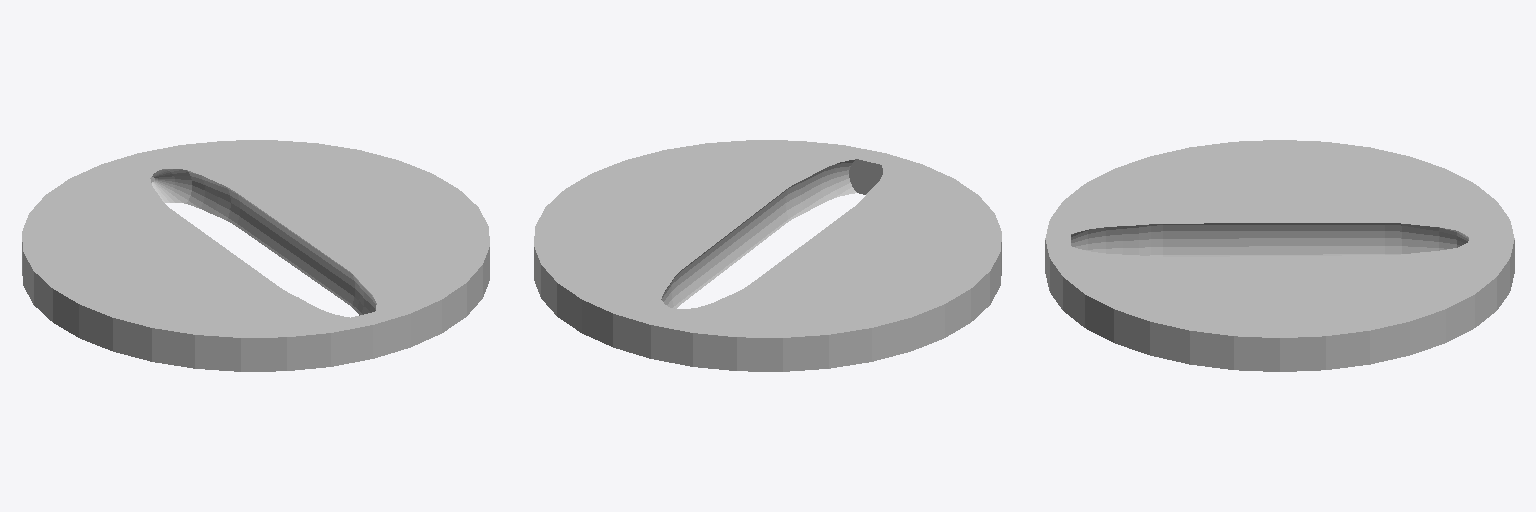
Rendered from molde4.obj.
3 renders of one model, left to right at view 1: azimuth 30°, elevation 25°; view 2: azimuth 150°, elevation 25°; view 3: azimuth 270°, elevation 25°, orthographic.
Visible parts, largest first — view 1: Cylinder.002_Cylinder.001; view 2: Cylinder.002_Cylinder.001; view 3: Cylinder.002_Cylinder.001.
Boxes of the visible parts, x1,y1,x2,y2 form: Cylinder.002_Cylinder.001: [22, 140, 489, 371]; Cylinder.002_Cylinder.001: [534, 140, 1001, 371]; Cylinder.002_Cylinder.001: [1045, 140, 1514, 371].
Bounding box in the file's own units: 4.74 × 0.3786 × 4.74.